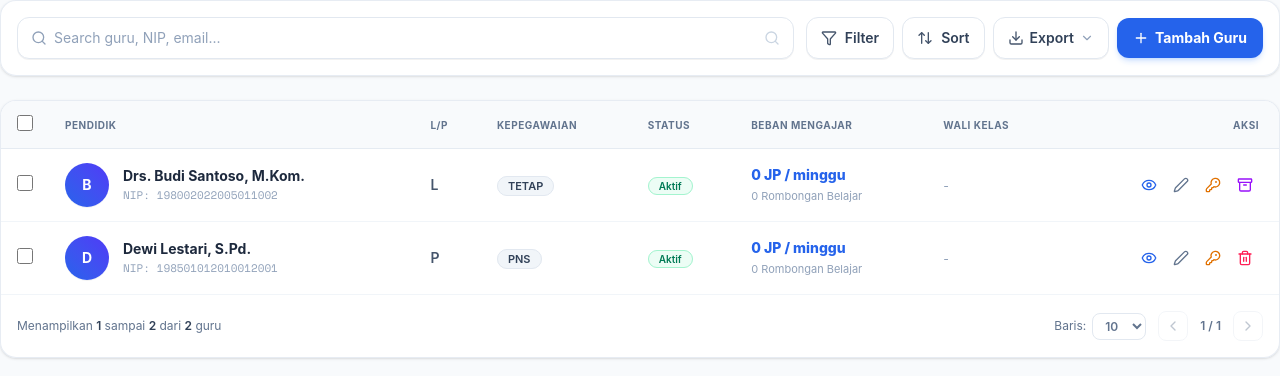
Scenario: Human Review Correction: Multi-Selection & Lifecycle Protection (Item 15 Test Suite) › 2. Data Guru Lifecycle Tests › filters teachers by Nonaktif
Click the button "Filter".
click(850, 38)  # box [806,17,894,59]
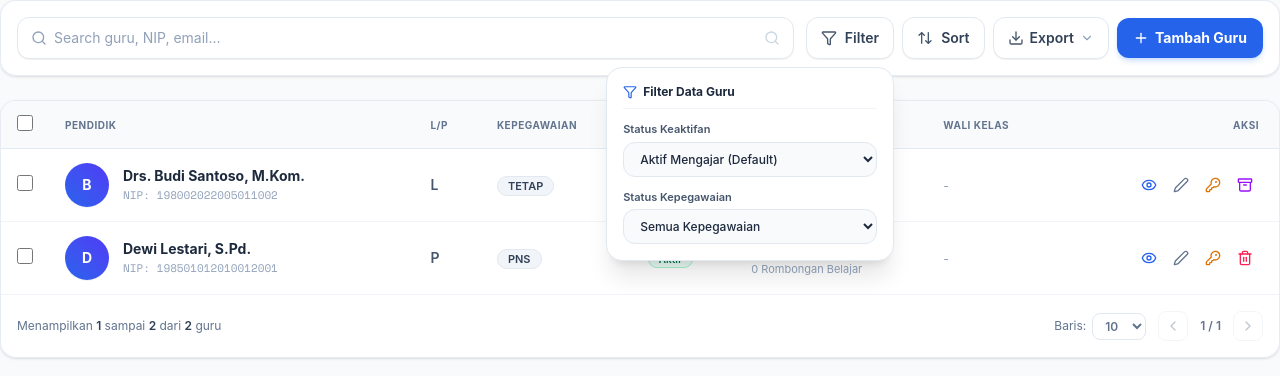
Select "Nonaktif" in the dropdown labelled "Status Keaktifan" at (750, 159), box [623,142,877,176]
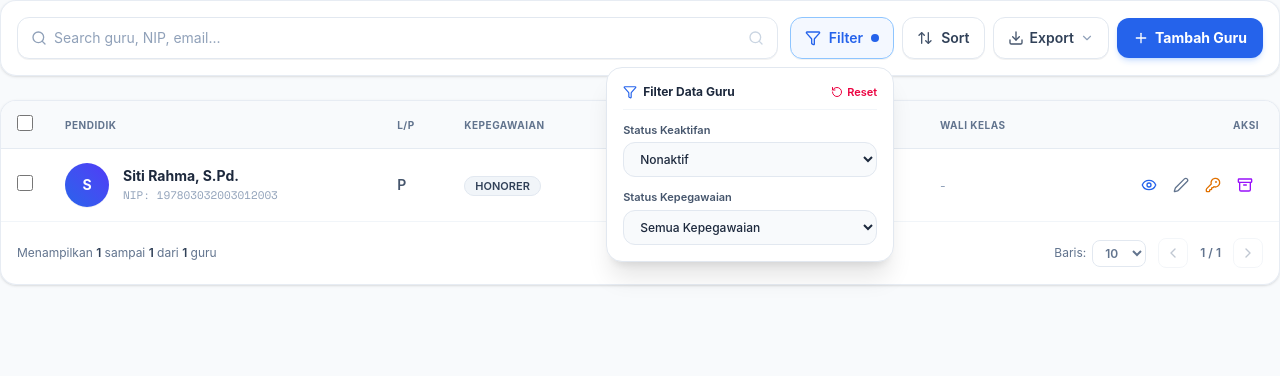
Expected: the text "Dewi Lestari, S.Pd." is gone
